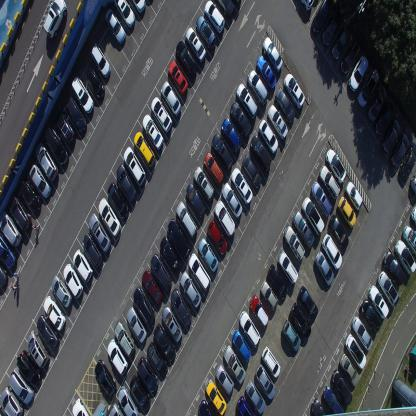car: (43, 123, 68, 167), (8, 366, 36, 405), (42, 0, 68, 41), (16, 349, 43, 387), (166, 216, 190, 258), (97, 196, 121, 238), (356, 68, 380, 109), (152, 322, 176, 363), (26, 329, 50, 369), (34, 141, 58, 181), (104, 6, 127, 47), (292, 210, 315, 250), (223, 344, 246, 384), (123, 146, 146, 186), (89, 212, 112, 252), (70, 74, 93, 114), (53, 106, 76, 146), (204, 378, 228, 416), (214, 199, 236, 240), (188, 251, 210, 292), (302, 196, 324, 237), (107, 180, 129, 221), (141, 112, 164, 151), (116, 162, 137, 204), (212, 133, 234, 173), (176, 199, 198, 239), (160, 304, 182, 344), (0, 208, 22, 248), (132, 286, 155, 324), (382, 250, 406, 286), (179, 269, 201, 308), (150, 253, 172, 292), (175, 39, 197, 78), (150, 95, 172, 134), (9, 193, 31, 232), (235, 82, 258, 119), (376, 270, 399, 307), (29, 162, 52, 199), (193, 166, 215, 204), (290, 303, 312, 341), (238, 309, 260, 347), (160, 234, 182, 272), (220, 117, 242, 155), (283, 224, 305, 262), (394, 238, 416, 276), (170, 288, 192, 326), (141, 268, 163, 306), (113, 320, 135, 358), (184, 25, 206, 63), (160, 79, 182, 117), (133, 130, 155, 168), (43, 295, 66, 331), (66, 94, 86, 135), (107, 337, 128, 376), (310, 0, 334, 34), (36, 316, 60, 350), (18, 179, 42, 213), (231, 167, 253, 204), (250, 134, 272, 171), (262, 36, 284, 73), (311, 181, 333, 218), (344, 333, 366, 370), (146, 341, 168, 378), (136, 356, 158, 393), (129, 375, 151, 412), (94, 360, 116, 397), (89, 41, 111, 78), (221, 182, 242, 220), (230, 100, 251, 138), (62, 262, 83, 300), (340, 39, 362, 75), (126, 305, 146, 344), (247, 68, 268, 105), (275, 86, 296, 123), (267, 103, 288, 140), (352, 315, 373, 352), (195, 14, 216, 51), (360, 298, 382, 333), (186, 181, 206, 219), (284, 72, 304, 110), (322, 233, 342, 271), (255, 362, 275, 400), (367, 84, 386, 124), (206, 219, 227, 255), (267, 264, 288, 300), (325, 147, 346, 183), (73, 248, 94, 284), (240, 154, 262, 188), (50, 274, 72, 308), (112, 0, 136, 31), (256, 53, 276, 90), (329, 213, 349, 250), (381, 118, 401, 155), (82, 231, 102, 268), (249, 293, 270, 328), (319, 164, 340, 199), (245, 379, 266, 414), (315, 249, 334, 287), (203, 152, 223, 188), (298, 286, 318, 322), (198, 236, 218, 272), (258, 118, 278, 154), (331, 24, 351, 60), (348, 55, 368, 91), (339, 351, 359, 387), (331, 368, 351, 404), (168, 60, 188, 96), (0, 386, 24, 416), (85, 65, 105, 101), (204, 0, 225, 34), (322, 384, 344, 416), (278, 251, 298, 285), (260, 344, 280, 378), (321, 12, 341, 46), (368, 284, 388, 318), (389, 134, 410, 166), (374, 103, 394, 136), (118, 386, 140, 416), (232, 328, 251, 362), (399, 141, 415, 181), (338, 194, 356, 228), (282, 318, 300, 352), (344, 180, 363, 212), (215, 364, 234, 396), (0, 235, 17, 269), (260, 281, 278, 311), (402, 224, 416, 258), (236, 396, 255, 415), (198, 398, 216, 416), (72, 397, 90, 415), (216, 0, 234, 17), (310, 397, 326, 415), (130, 0, 147, 15), (408, 167, 416, 196), (295, 0, 314, 12), (108, 402, 124, 415), (0, 266, 9, 289), (410, 202, 416, 228)
